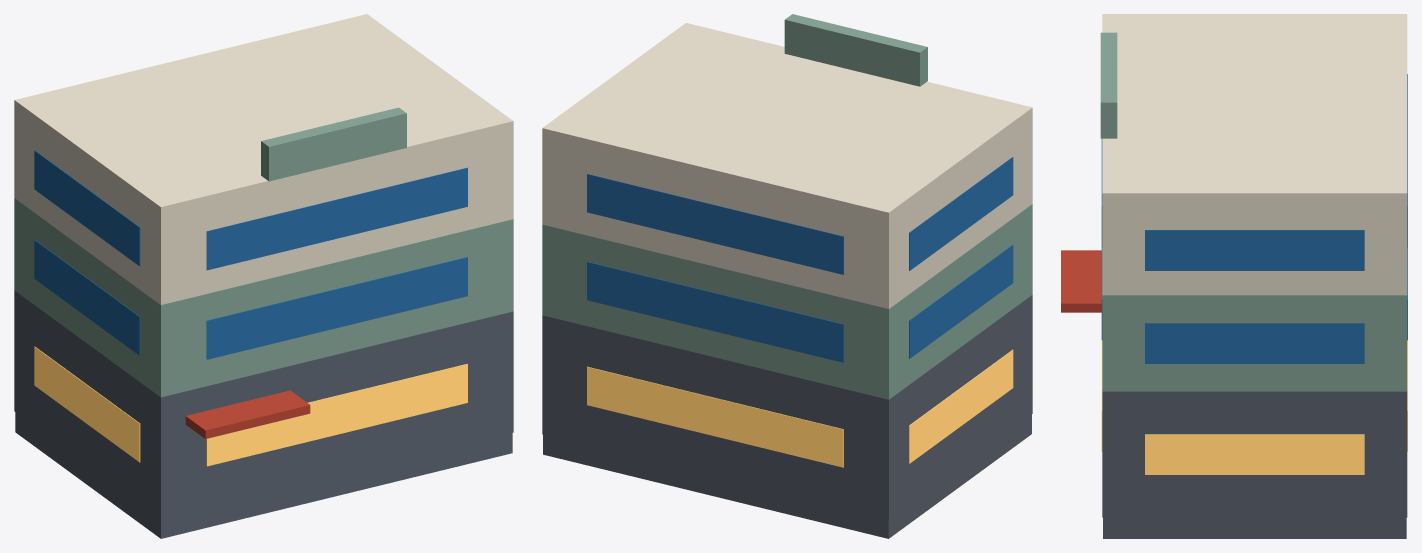
File: 04_commercial-lod2.glb
3 renders of one model, left to right at view 1: azimuth 30°, elevation 25°; view 2: azimuth 150°, elevation 25°; view 3: azimuth 270°, elevation 25°, orthographic. The views are drawn at different scales.
Visible parts, largest first — view 1: 04_commercial_LOD2; view 2: 04_commercial_LOD2; view 3: 04_commercial_LOD2.
Part boxes in pixels (bbox=[...]): 04_commercial_LOD2: bbox=[14, 14, 513, 538]; 04_commercial_LOD2: bbox=[542, 14, 1032, 538]; 04_commercial_LOD2: bbox=[1061, 14, 1407, 538].
Size of the model in its own units: 12.84 by 12.72 by 10.47.
Materials: 2 (2 with a texture image).
